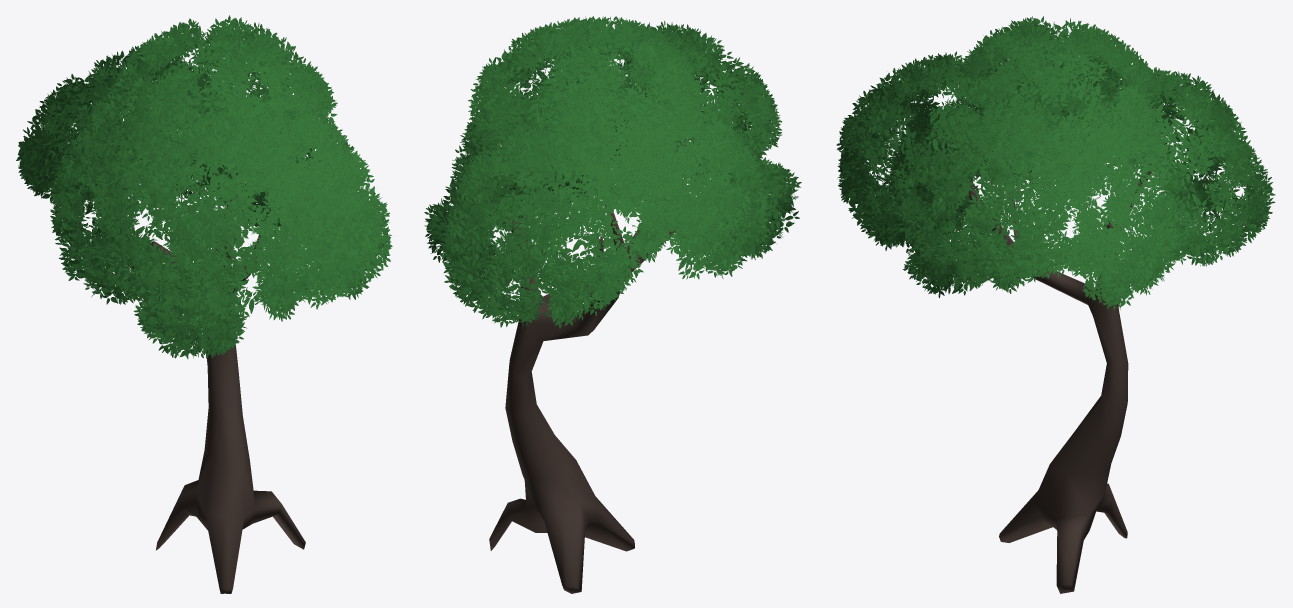
File: Tree6.fbx
3 renders of one model, left to right at view 1: azimuth 30°, elevation 25°; view 2: azimuth 150°, elevation 25°; view 3: azimuth 270°, elevation 25°, orthographic. The views are drawn at different scales.
Parts seen in each view (by area): view 1: Leaves.001; view 2: Leaves.001; view 3: Leaves.001.
Boxes of the visible parts, x1=… form: Leaves.001: x1=16, y1=15, x2=392, y2=593; Leaves.001: x1=424, y1=16, x2=801, y2=593; Leaves.001: x1=836, y1=16, x2=1275, y2=593.
Bounding box in the file's own units: 348 × 613 × 472.
Materials: 2 (1 with a texture image).
